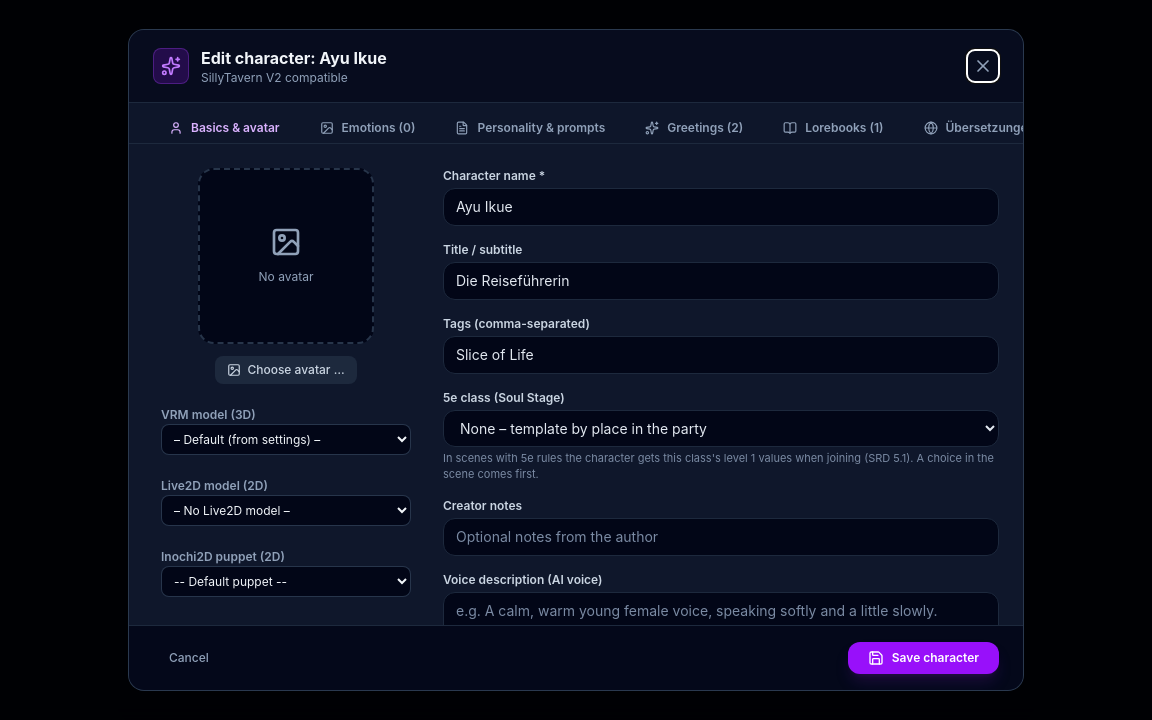
Test: character editor › shows a failed save and stays open for another try
Click the button "Save character" at (923, 658), box [848,642,999,674]
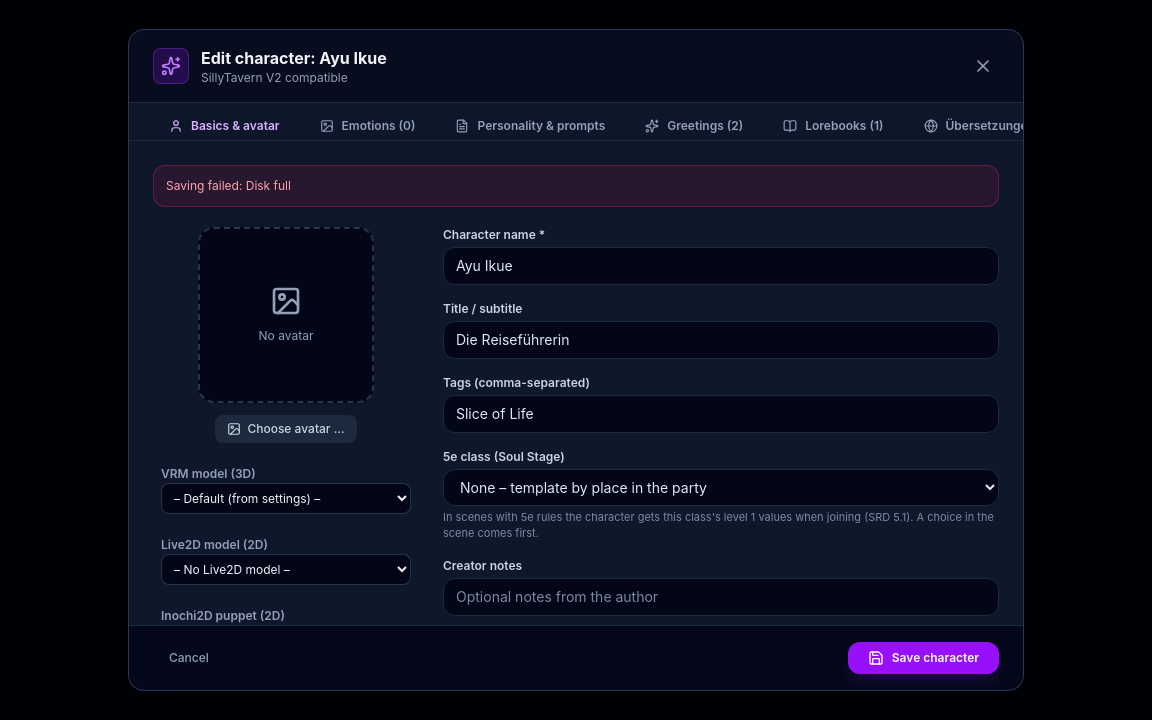
Expected: the field labelled "Character name *" holds "Ayu Ikue", [443,247,999,285]
Expected: the text "Saving failed: Disk full" is shown, [153,165,999,207]
Click the button "Save character" at (923, 658), box [848,642,999,674]
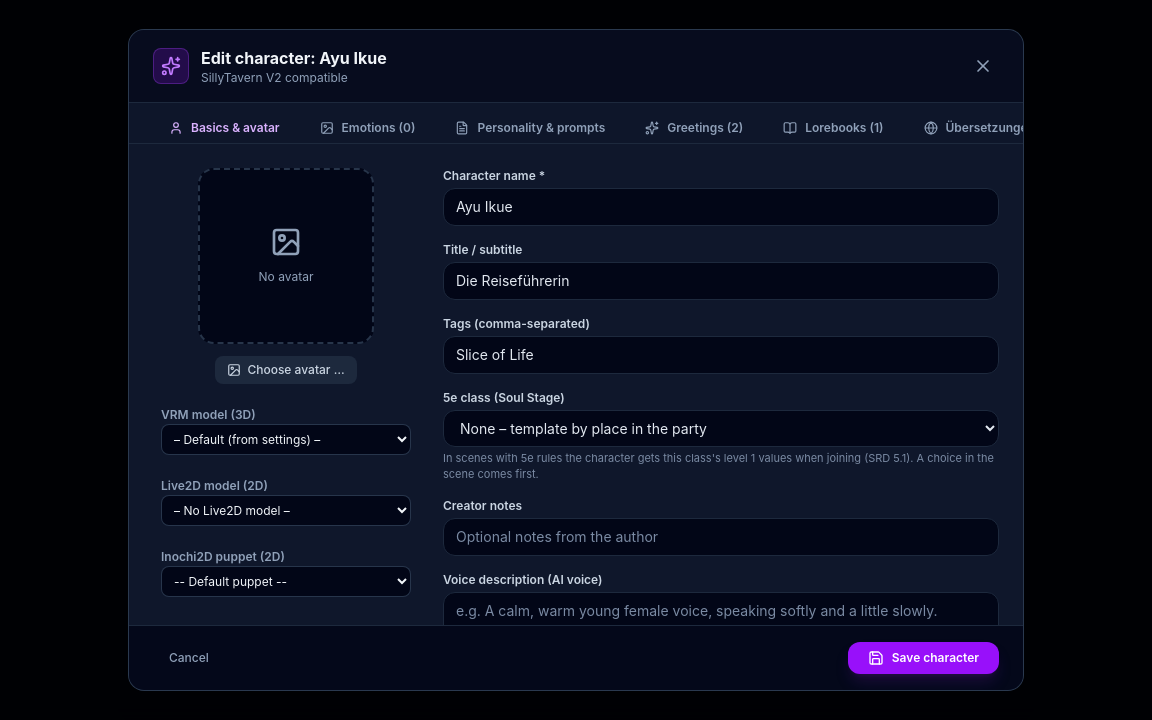
Expected: the text "Saving failed: Disk full" is gone
